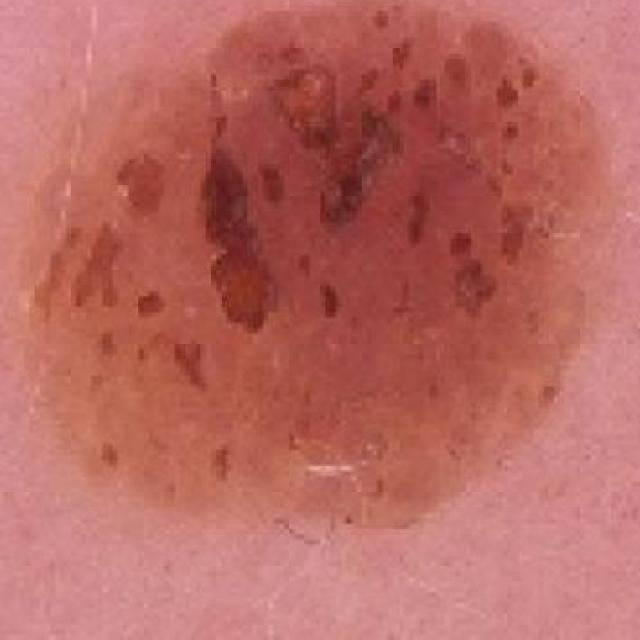BKL: (35, 0, 620, 601)
